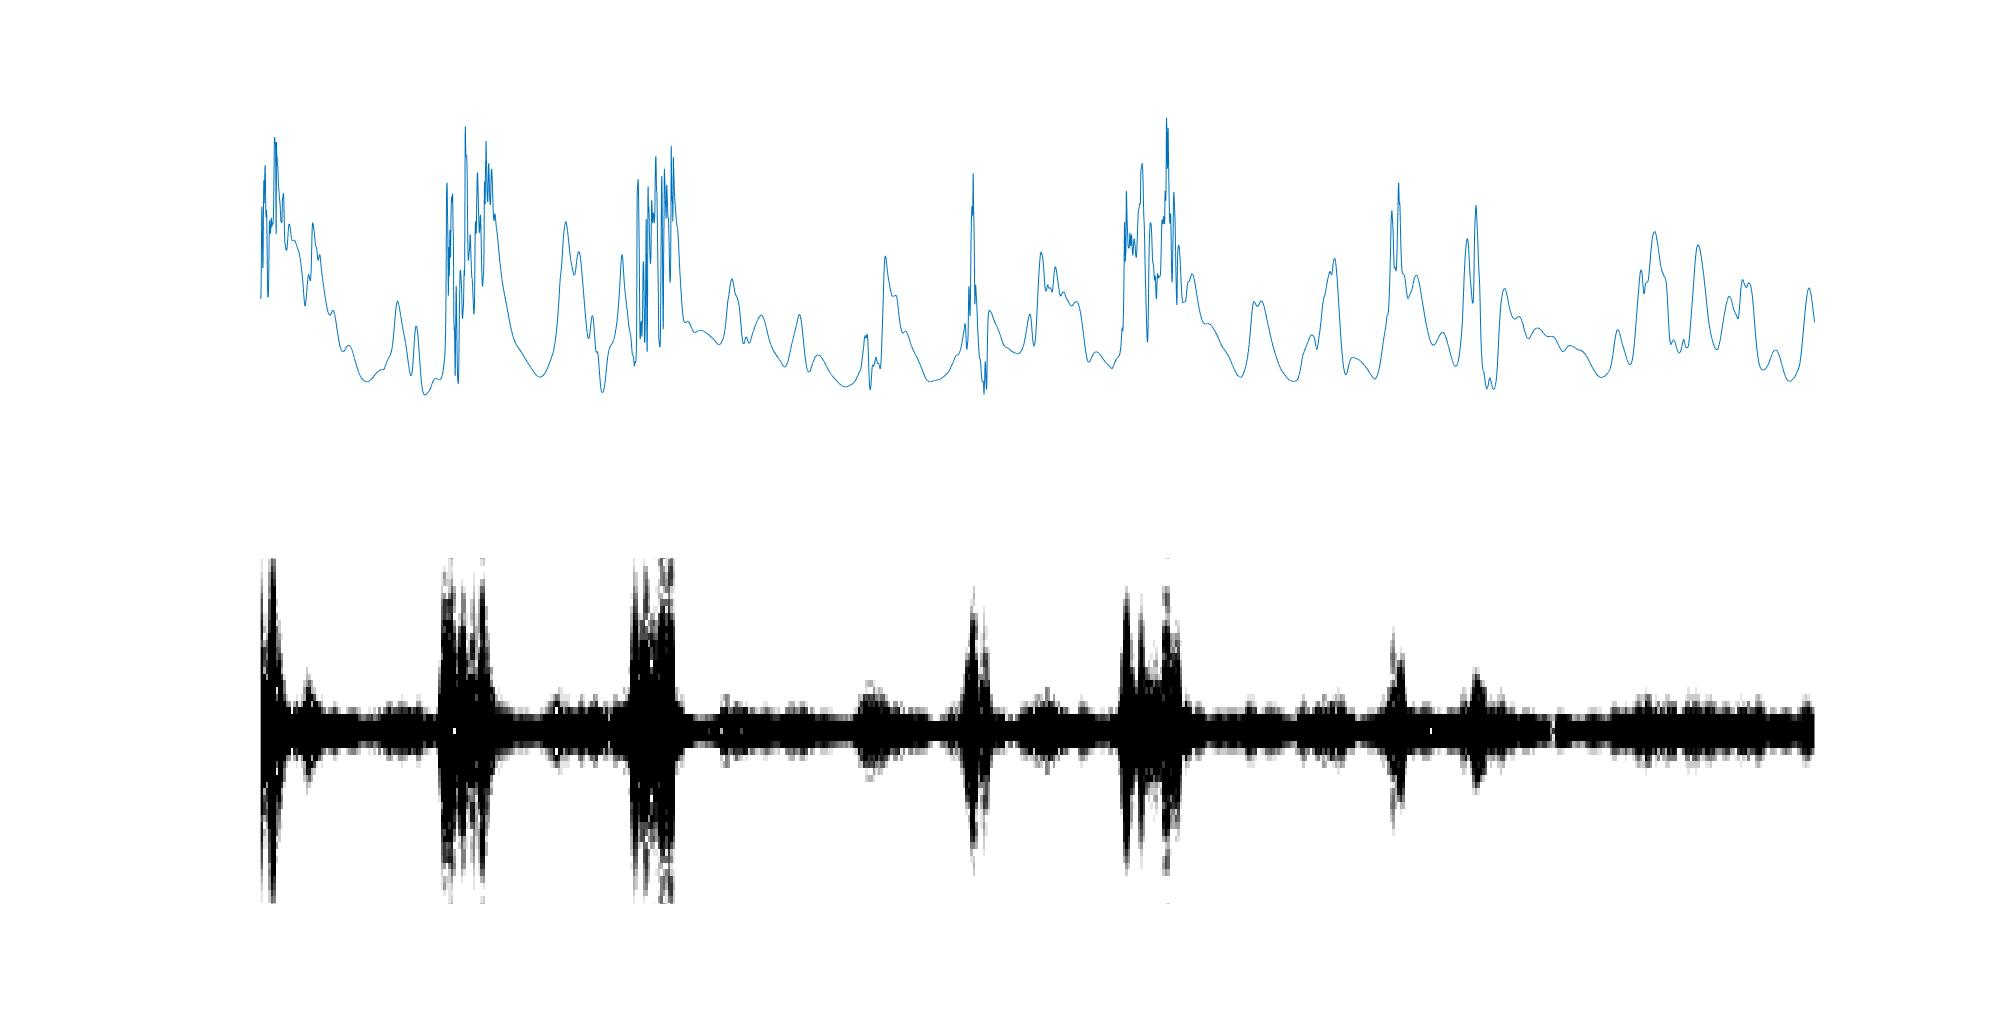spot: (438, 557, 501, 899), (1122, 584, 1192, 881), (628, 555, 680, 907), (258, 561, 293, 903)
